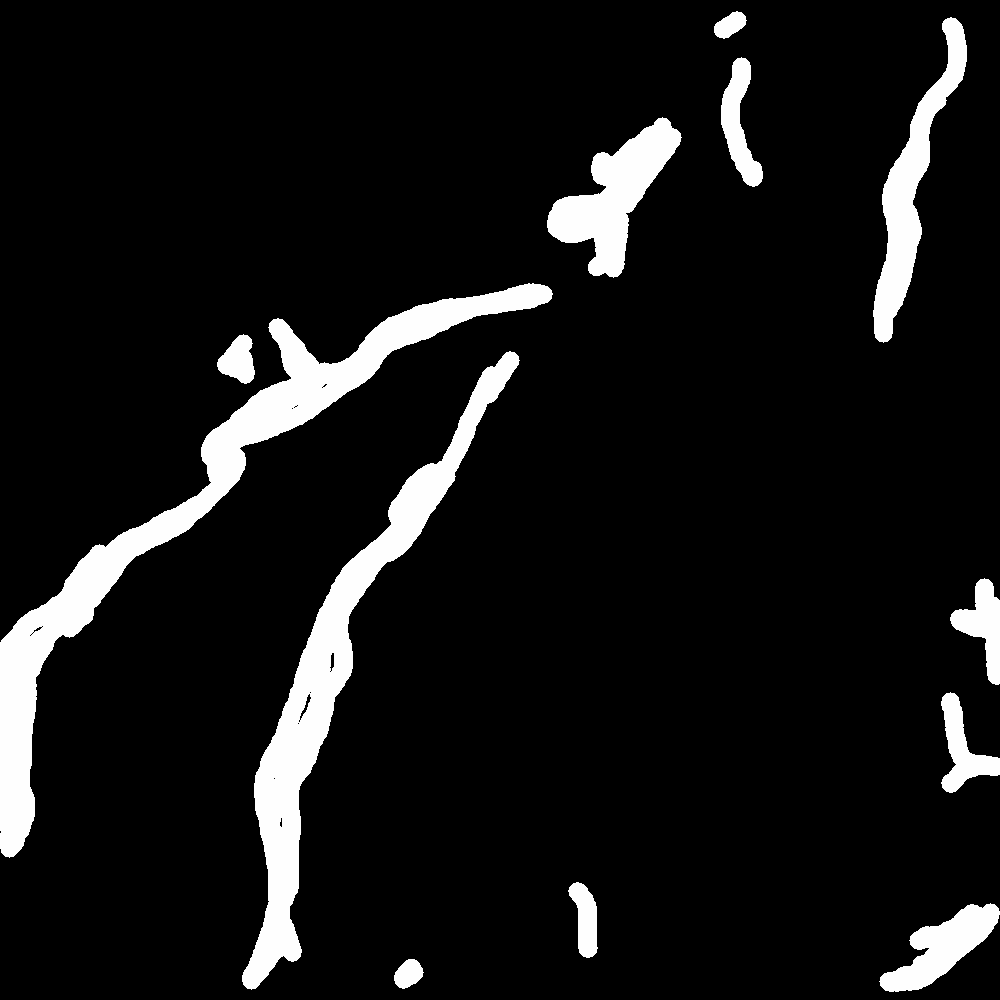illegal: (258, 454, 463, 874), (1, 513, 169, 843), (187, 320, 402, 510), (868, 22, 985, 346), (532, 123, 677, 277), (715, 20, 776, 207), (865, 901, 1000, 985), (404, 285, 549, 332), (246, 876, 307, 982), (469, 341, 531, 413)
